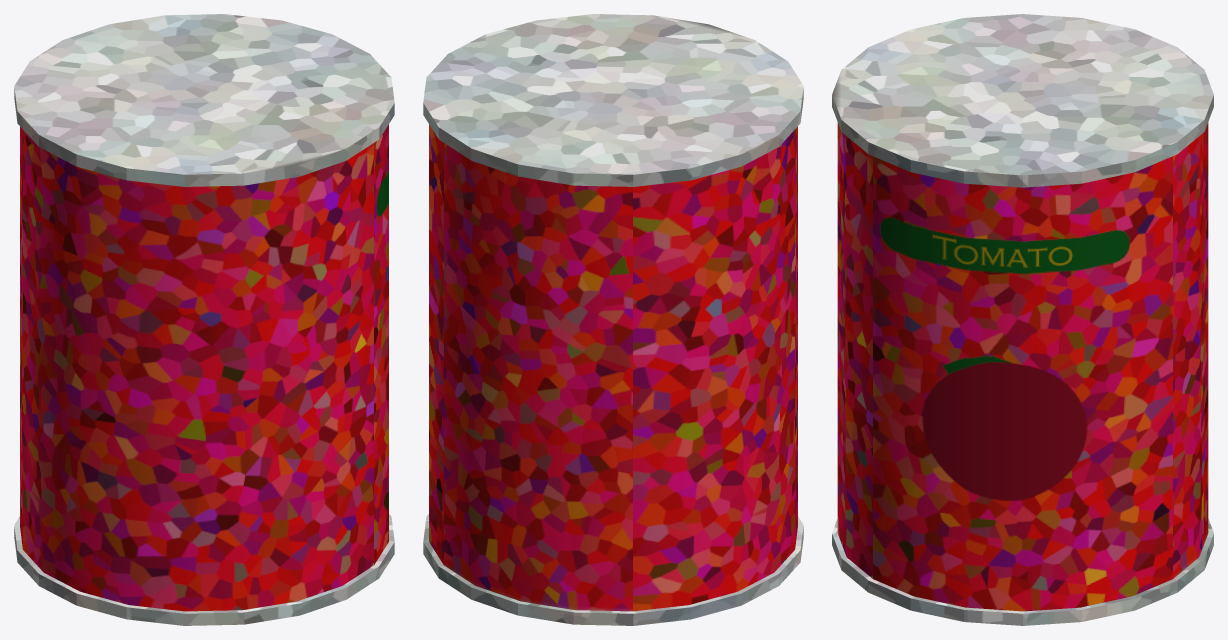
The model's file is saucecan.fbx.
3 renders of one model, left to right at view 1: azimuth 30°, elevation 25°; view 2: azimuth 150°, elevation 25°; view 3: azimuth 270°, elevation 25°, orthographic.
Visible parts, largest first — view 1: pCylinder1; view 2: pCylinder1; view 3: pCylinder1.
Part boxes in pixels (x1,y1,x2,y2): pCylinder1: [14, 14, 394, 625]; pCylinder1: [423, 14, 803, 625]; pCylinder1: [832, 14, 1213, 625].
Size of the model in its own units: 2 by 2.6 by 2.
Materials: 2 (2 with a texture image).
